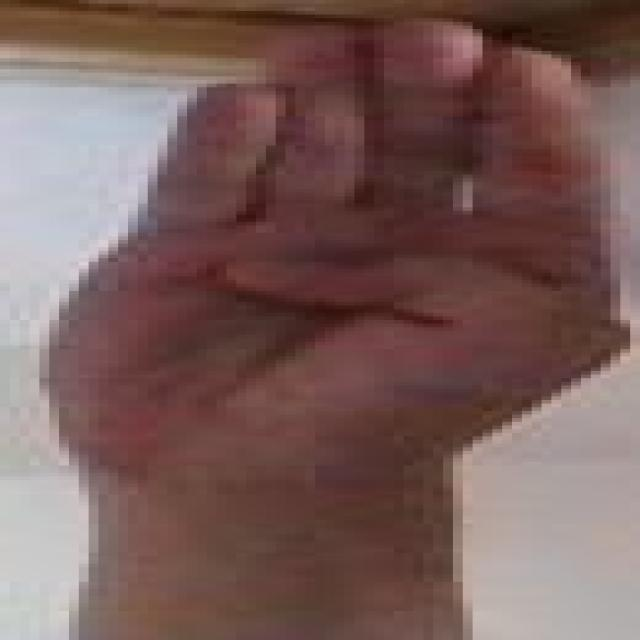B: (24, 9, 640, 514)
